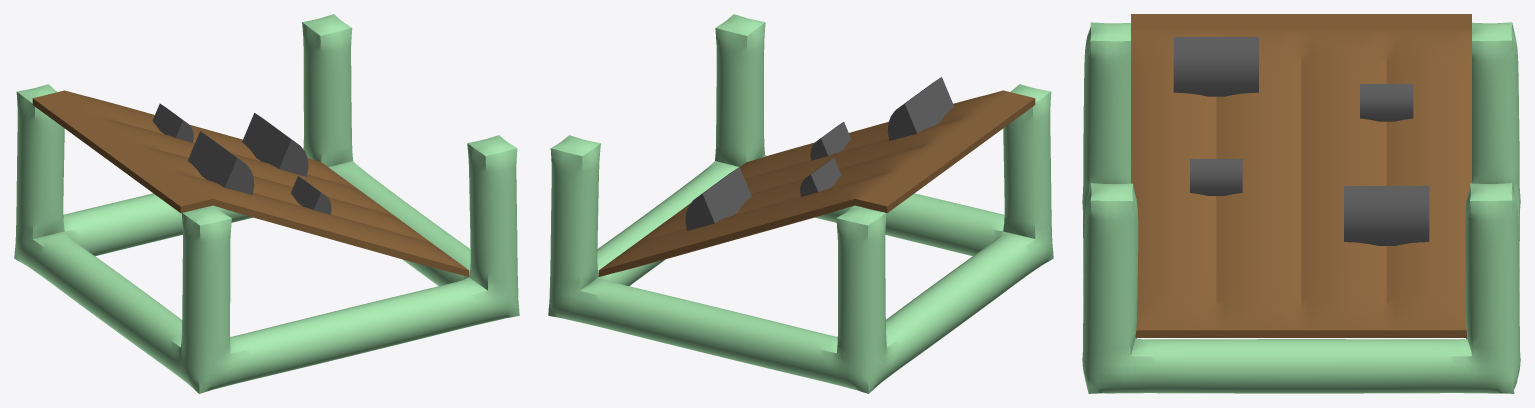
File: CellClimb.fbx
3 views of the same model, side by side, from view 1: azimuth 30°, elevation 25°; view 2: azimuth 150°, elevation 25°; view 3: azimuth 270°, elevation 25° (orthographic). The views are drawn at different scales.
Visible parts, largest first — view 1: Cube.013, Cube.010, Cylinder, Cylinder.003, Cylinder.001, Cylinder.002; view 2: Cube.013, Cube.010, Cylinder, Cylinder.003, Cylinder.001, Cylinder.002; view 3: Cube.010, Cube.013, Cylinder.003, Cylinder, Cylinder.001, Cylinder.002.
Part boxes in pixels (left/top/right/bottom): Cube.013: left=14, top=14, right=519, bottom=393; Cube.010: left=32, top=90, right=469, bottom=276; Cylinder: left=188, top=131, right=254, bottom=195; Cylinder.003: left=242, top=113, right=308, bottom=176; Cylinder.001: left=152, top=103, right=193, bottom=142; Cylinder.002: left=291, top=176, right=331, bottom=214; Cube.013: left=548, top=14, right=1053, bottom=393; Cube.010: left=598, top=90, right=1035, bottom=276; Cylinder: left=887, top=77, right=953, bottom=140; Cylinder.003: left=685, top=167, right=751, bottom=230; Cylinder.001: left=800, top=158, right=841, bottom=196; Cylinder.002: left=810, top=122, right=850, bottom=160; Cube.010: left=1131, top=14, right=1471, bottom=337; Cube.013: left=1082, top=22, right=1520, bottom=393; Cylinder.003: left=1344, top=186, right=1429, bottom=245; Cylinder: left=1173, top=37, right=1258, bottom=96; Cylinder.001: left=1360, top=84, right=1413, bottom=121; Cylinder.002: left=1190, top=159, right=1242, bottom=195.
Bounding box in the file's own units: 1029 × 584 × 1029.
